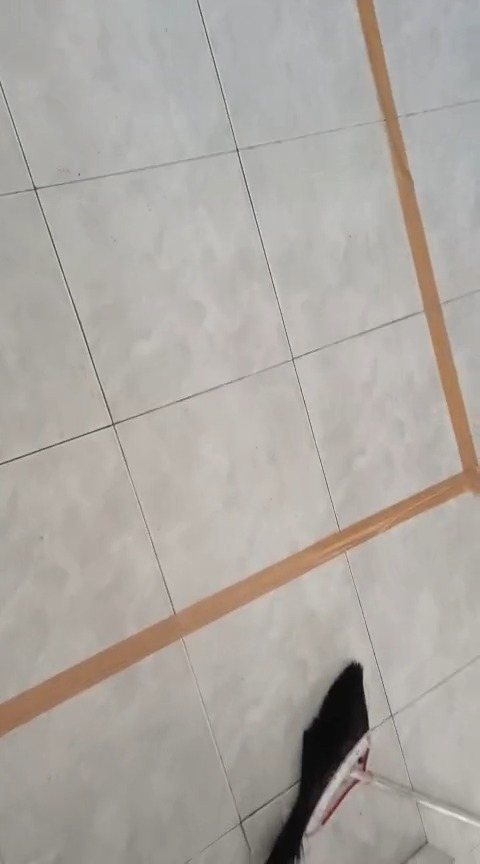floor marking: (0, 0, 479, 738)
